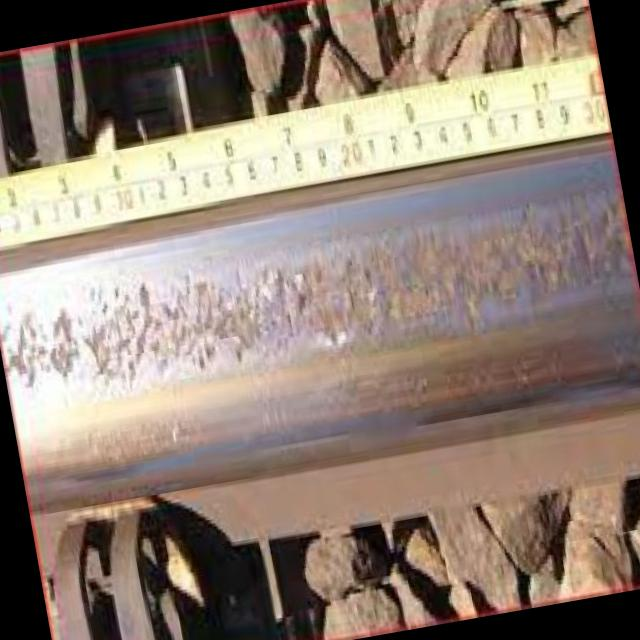defective: (0, 32, 640, 616)
